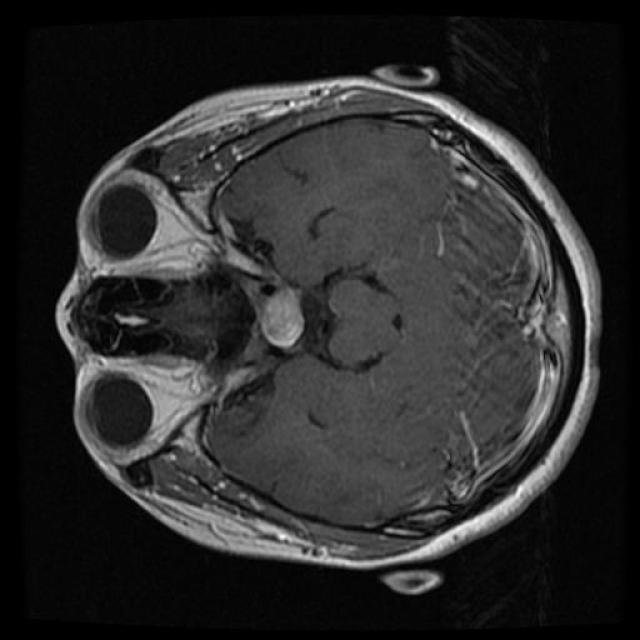Pituitary: (244, 270, 305, 355)
